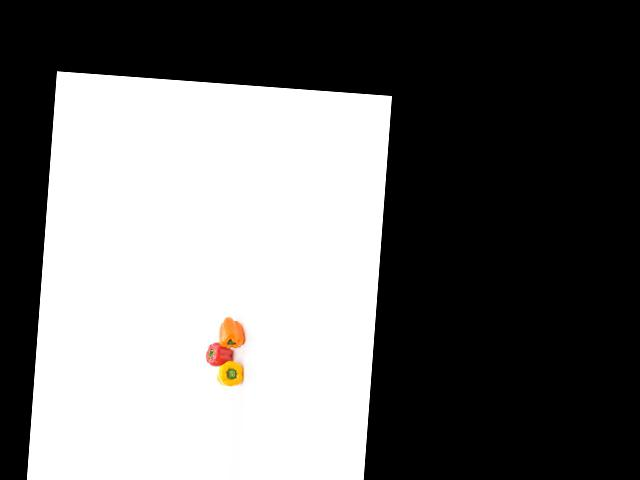bell_pepper: (215, 356, 245, 389)
